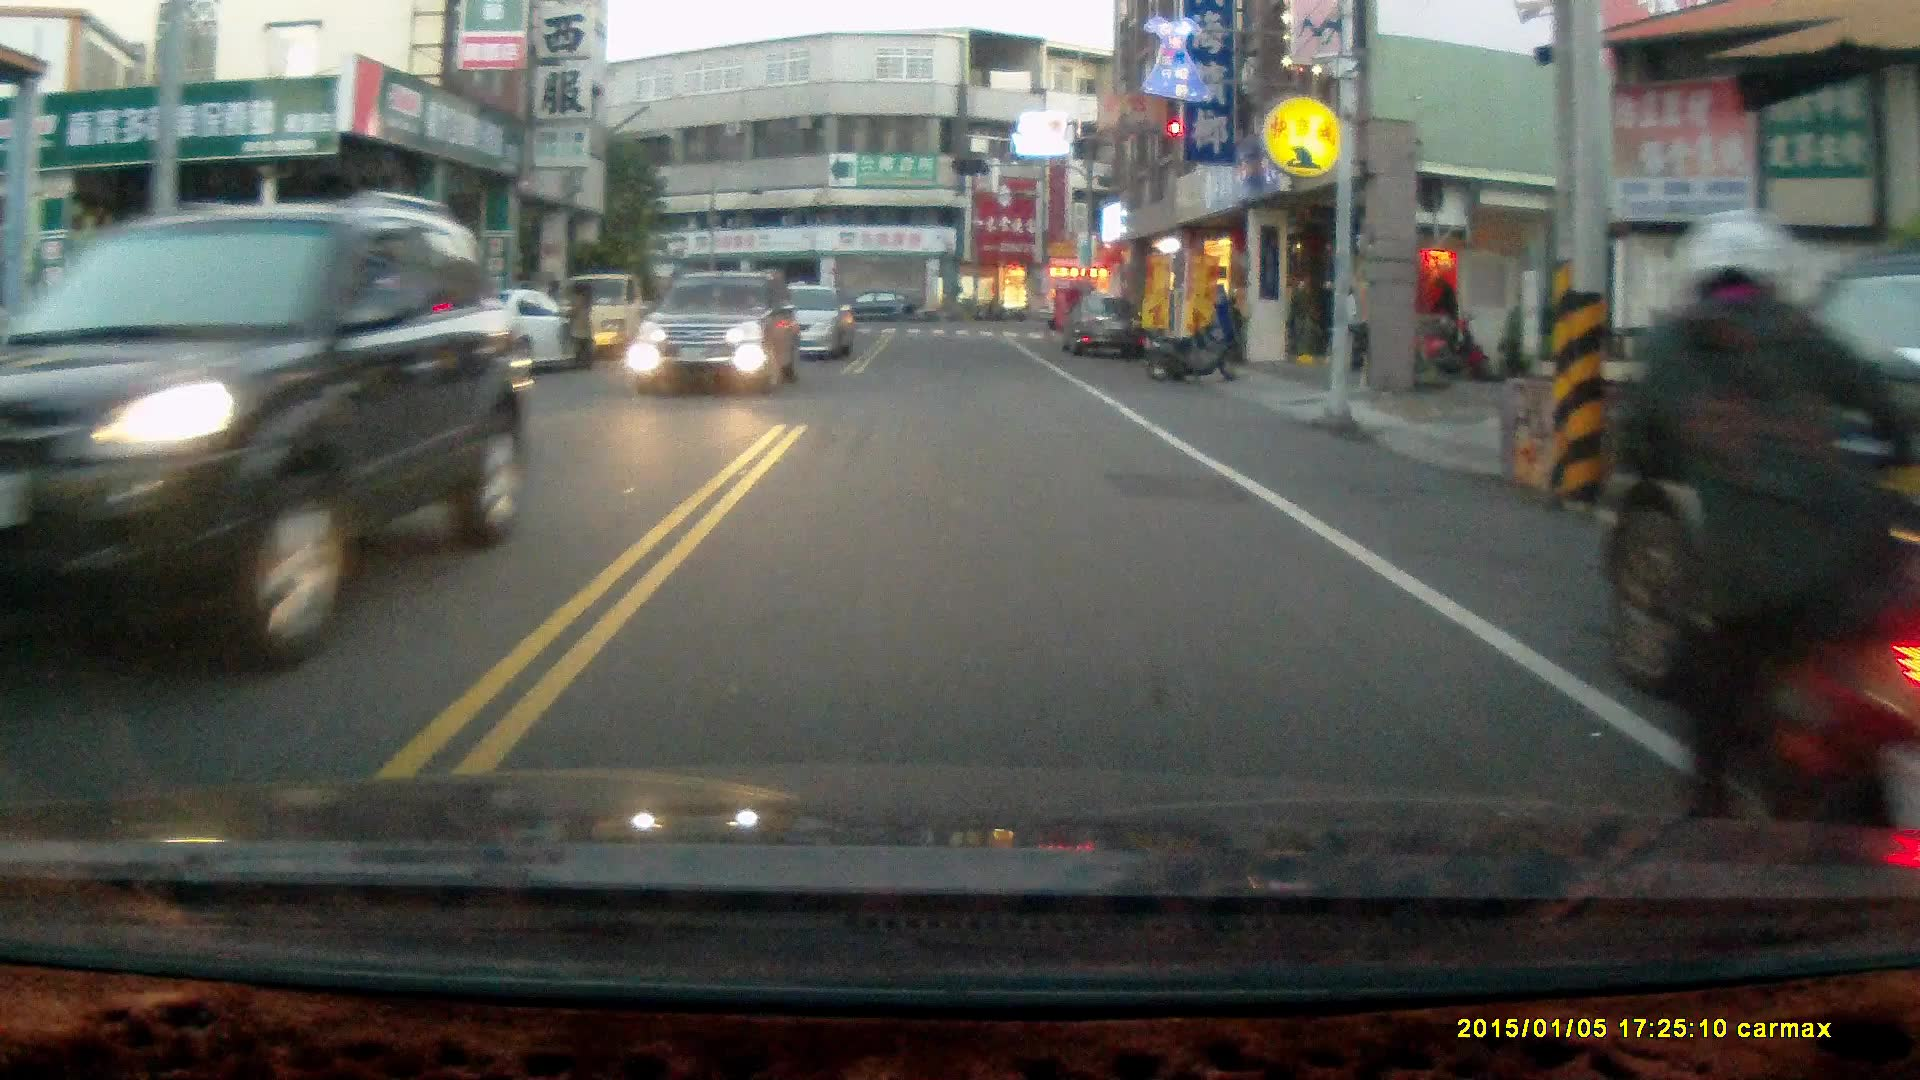pedestrian: (560, 279, 591, 373)
rider: (1615, 206, 1920, 850)
vehicle: (3, 192, 551, 654), (1615, 251, 1920, 765), (635, 268, 798, 399), (738, 282, 859, 362), (1060, 293, 1151, 365), (824, 289, 935, 328)
